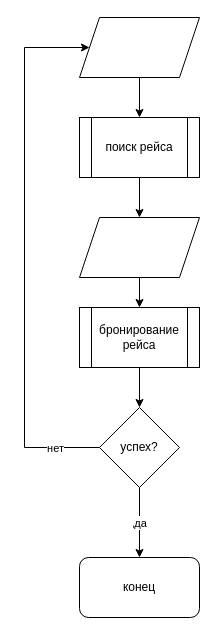
This 217x635 diagram has some shape labels left out. The box of each missing label's shape, as (x1, y1, x2, y2) in pixels:
ввод параметров рейса: (78, 16, 200, 78)
выбор рейса: (78, 216, 200, 278)
